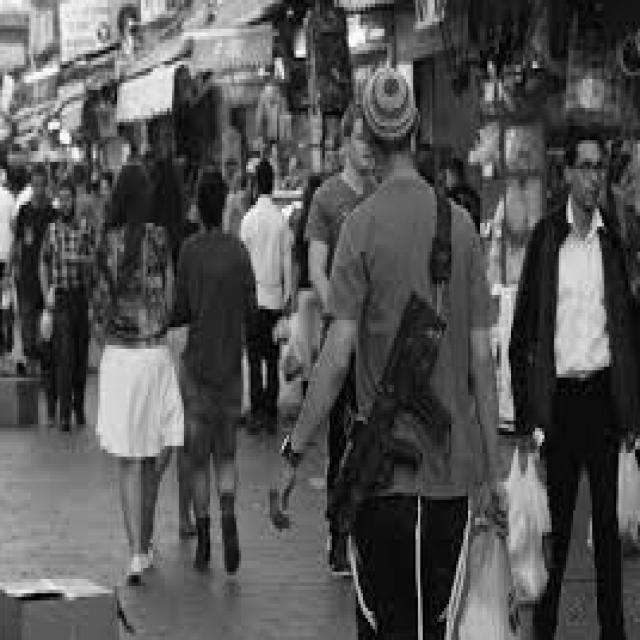gun: (305, 278, 456, 569)
